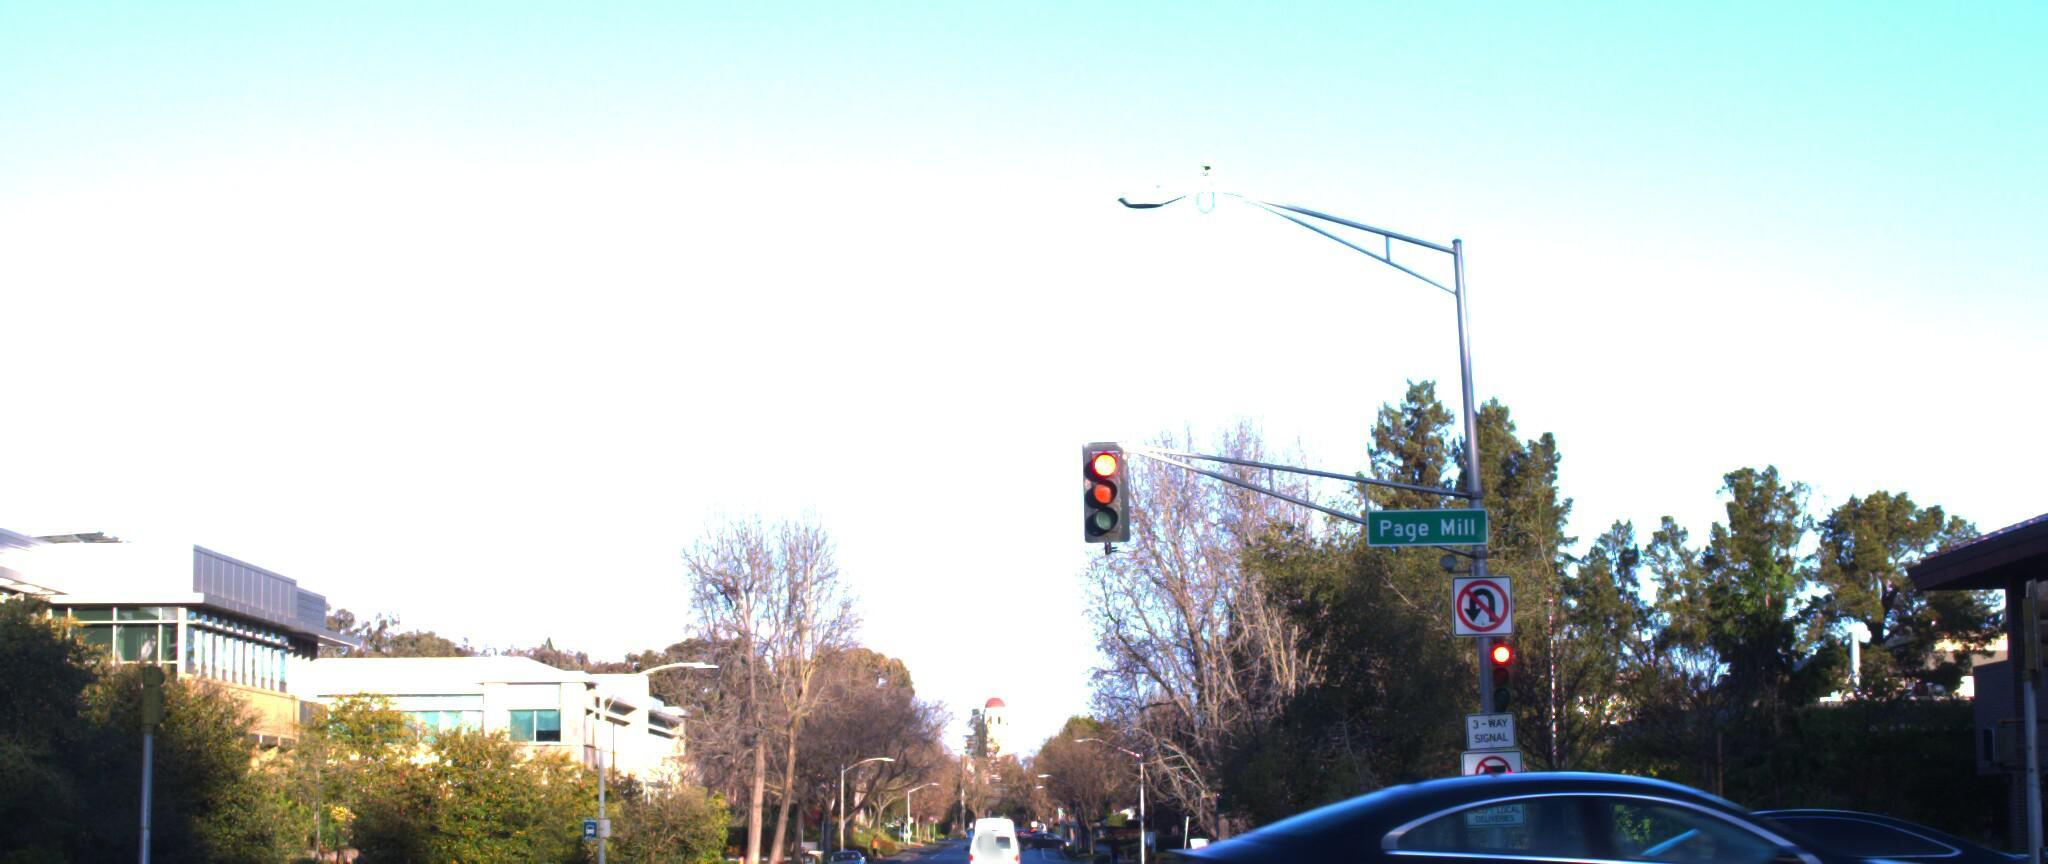car: (1143, 760, 2048, 864), (1435, 801, 2034, 864), (0, 788, 285, 864)
